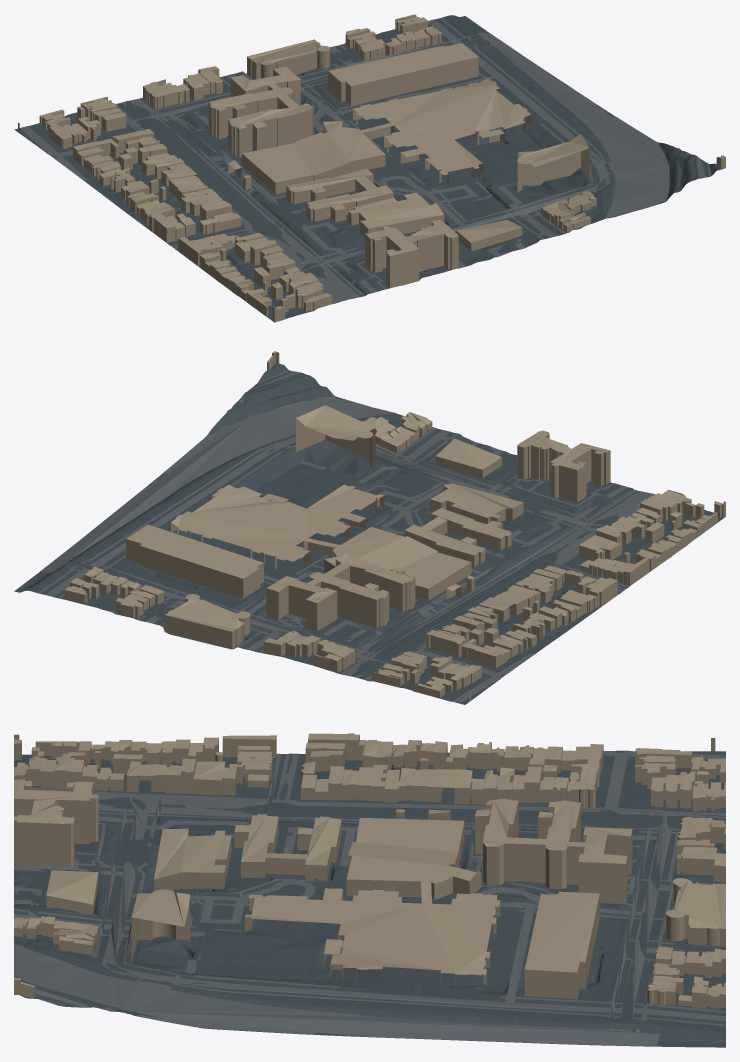
The model's file is epsg26910-1438-10882.lod0.glb.
3 renders of one model, top to bottom at view 1: azimuth 30°, elevation 25°; view 2: azimuth 150°, elevation 25°; view 3: azimuth 270°, elevation 25°, orthographic. The views are drawn at different scales.
Parts seen in each view (by area): view 1: epsg26910-1438-10882-lod0; view 2: epsg26910-1438-10882-lod0; view 3: epsg26910-1438-10882-lod0.
Boxes of the visible parts, <box> form: epsg26910-1438-10882-lod0: <box>14,14,725,322</box>; epsg26910-1438-10882-lod0: <box>14,351,725,704</box>; epsg26910-1438-10882-lod0: <box>14,733,725,1047</box>.
Bounding box in the file's own units: 384 × 45.77 × 384.
